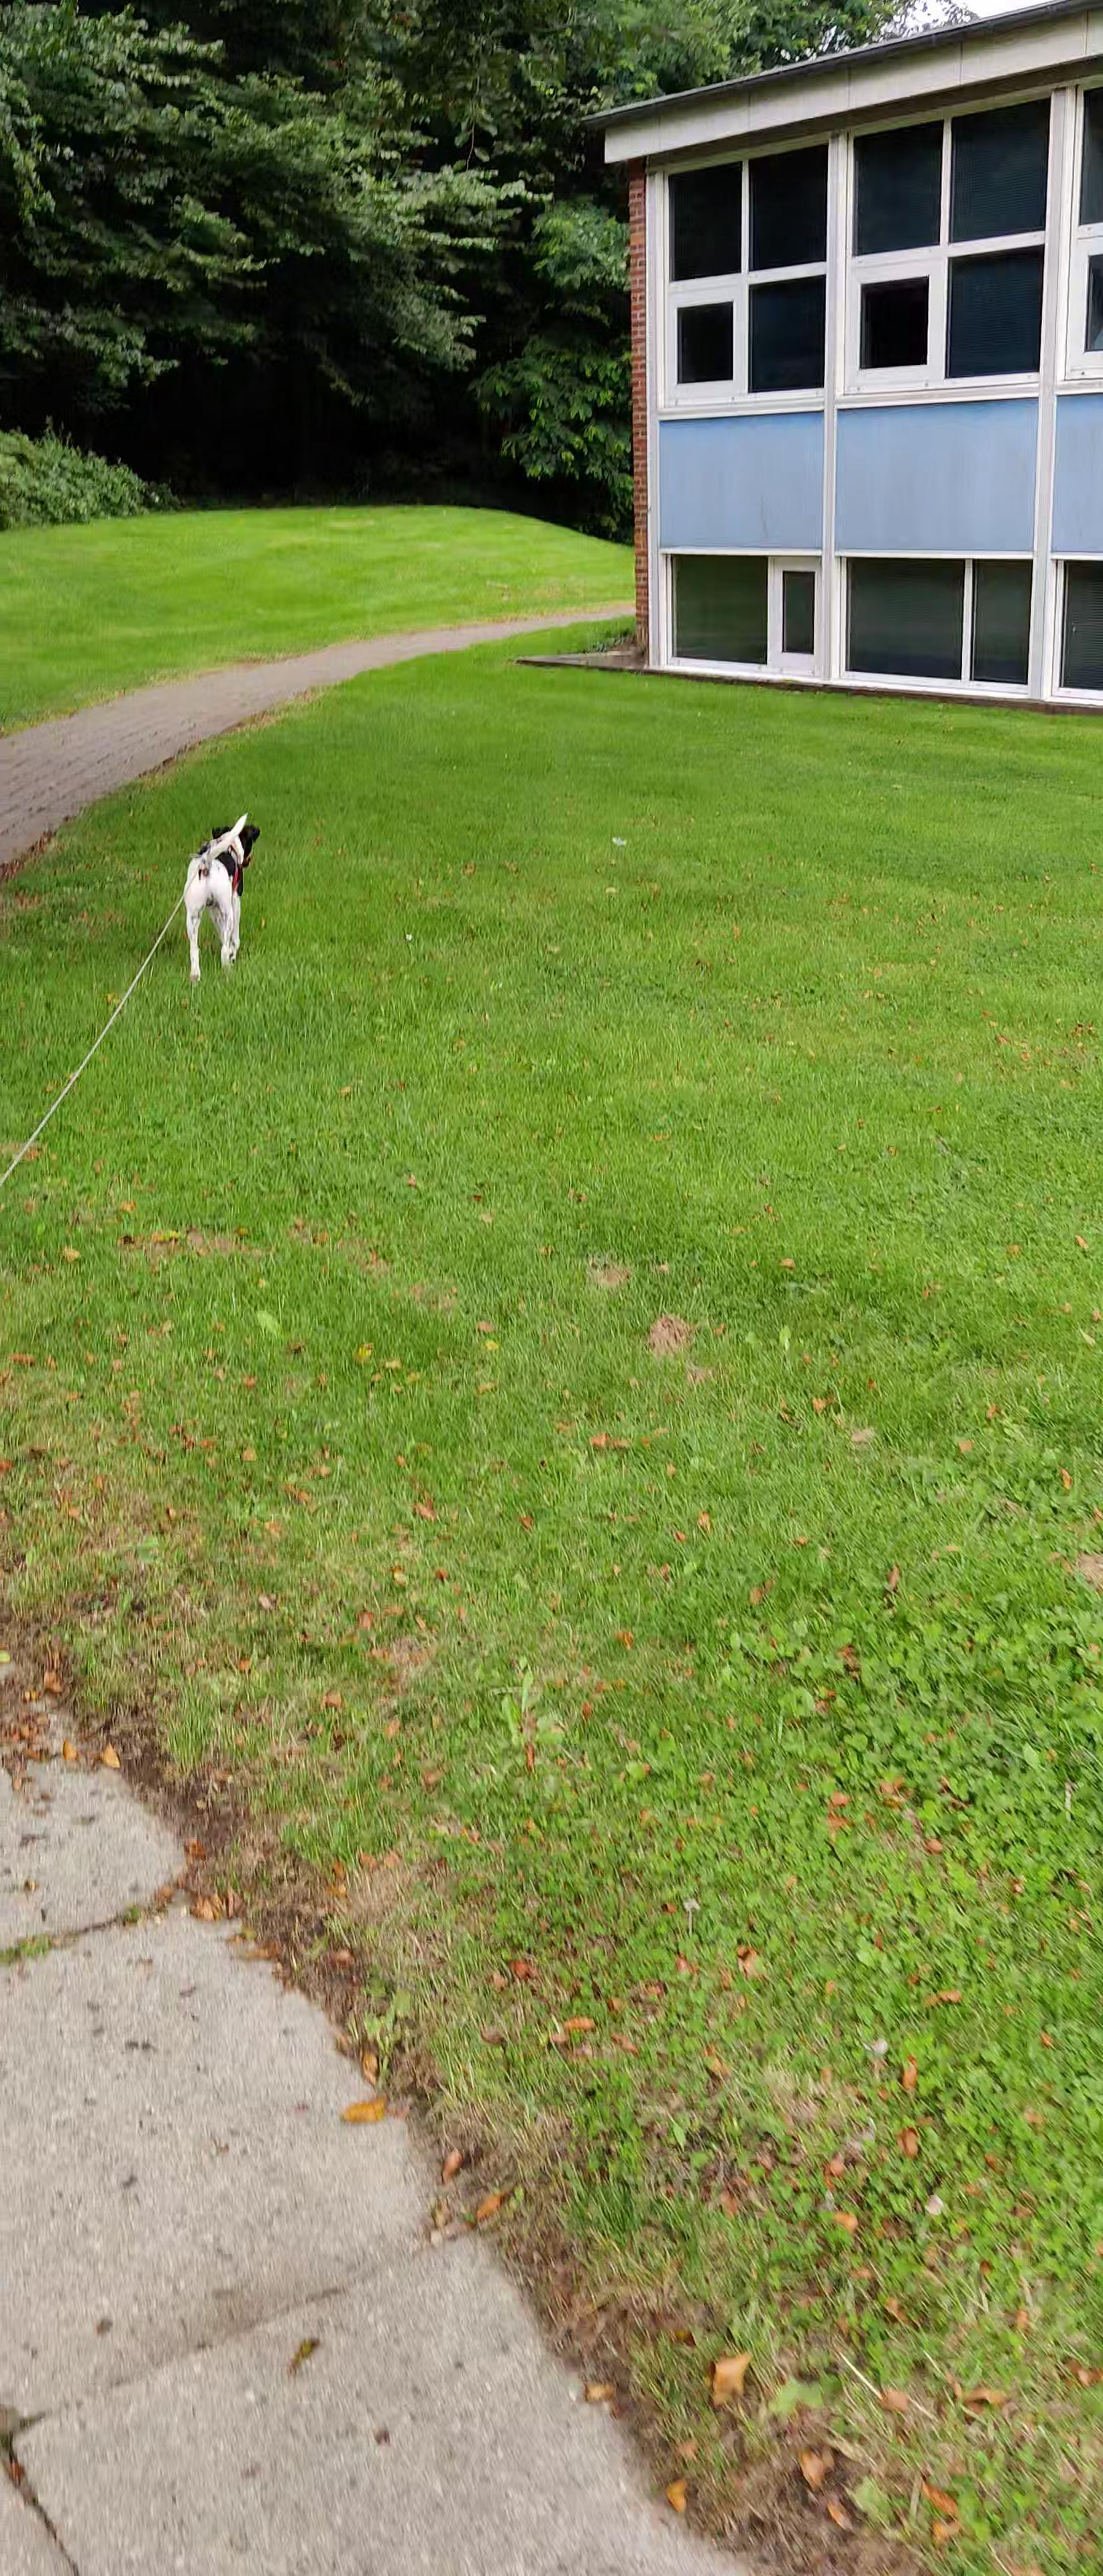Dog: (164, 805, 268, 992)
